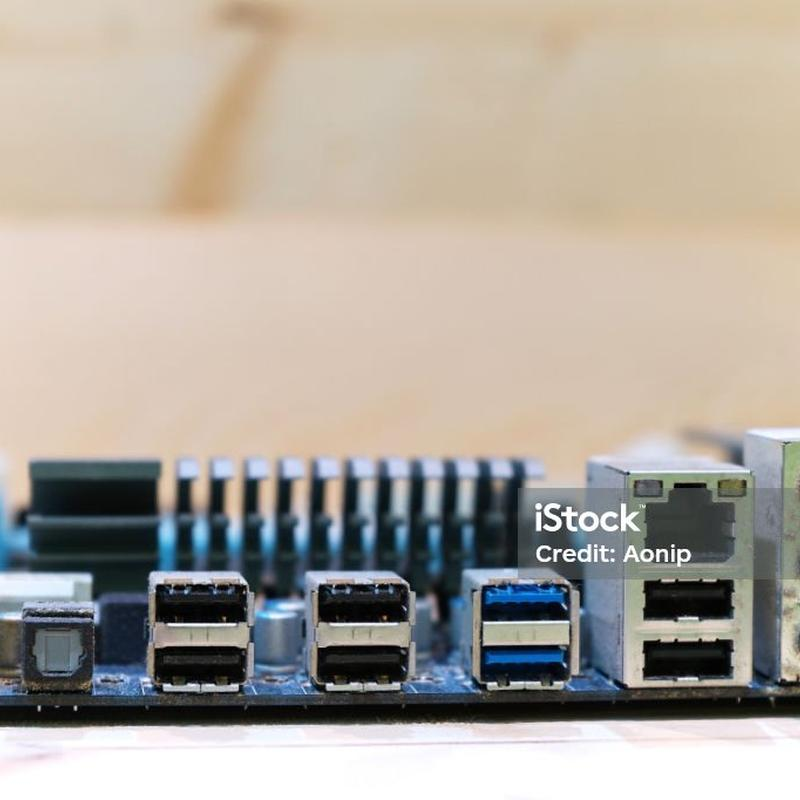ETHERNET: (617, 476, 741, 572)
USB: (637, 575, 751, 630), (472, 575, 578, 631), (150, 638, 251, 692), (312, 576, 411, 630), (628, 639, 746, 681), (155, 578, 250, 630), (314, 638, 413, 684), (480, 637, 573, 683)
